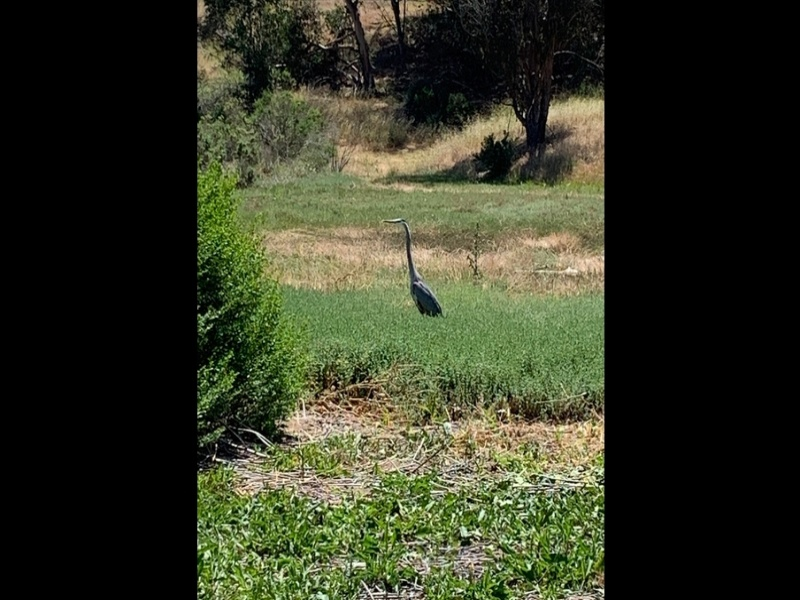heron: (387, 216, 441, 317)
